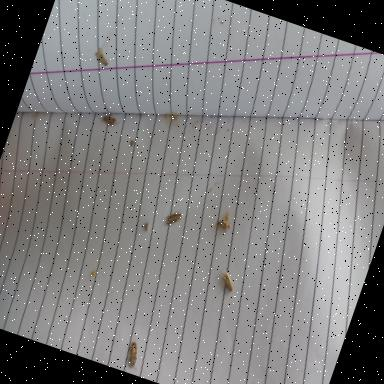pbw: (214, 264, 240, 293), (124, 340, 143, 368), (92, 46, 113, 67), (163, 209, 184, 230), (100, 112, 122, 129), (219, 210, 235, 230), (216, 218, 230, 230), (214, 222, 228, 232)
